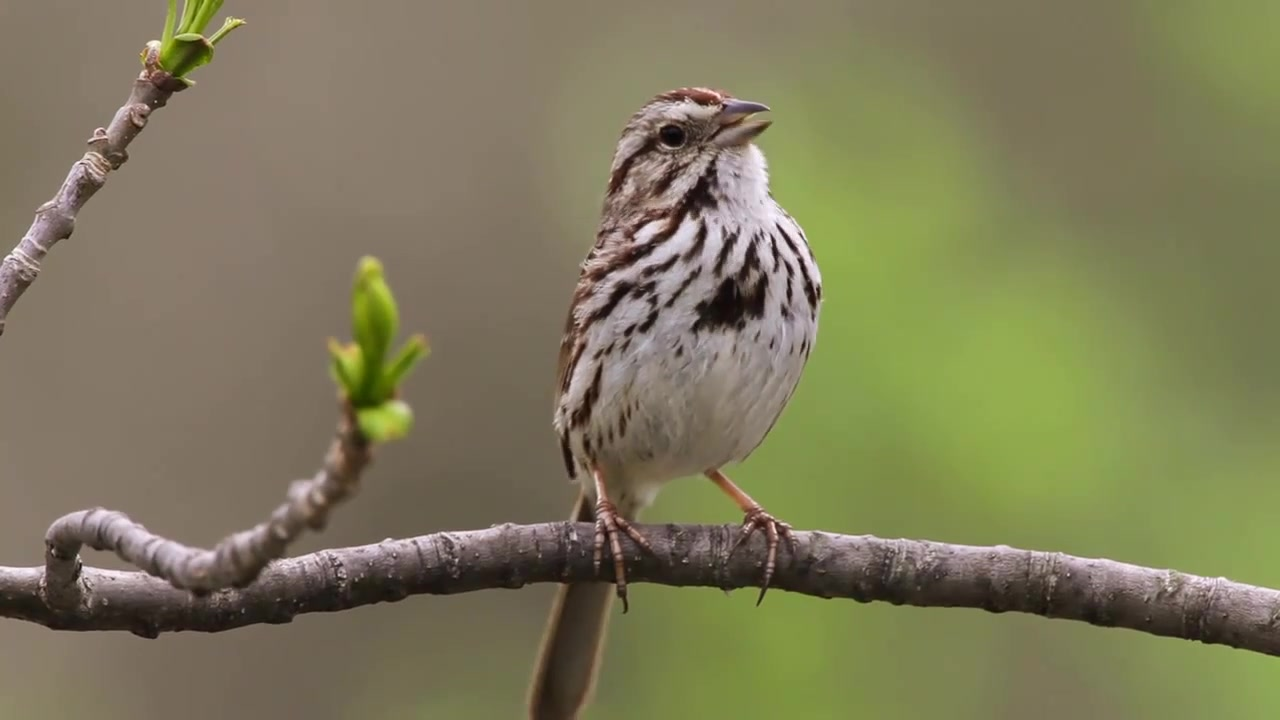bird: (524, 84, 826, 720)
